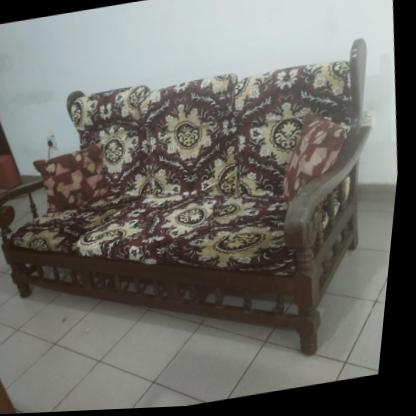Sofa: (0, 48, 397, 400)
